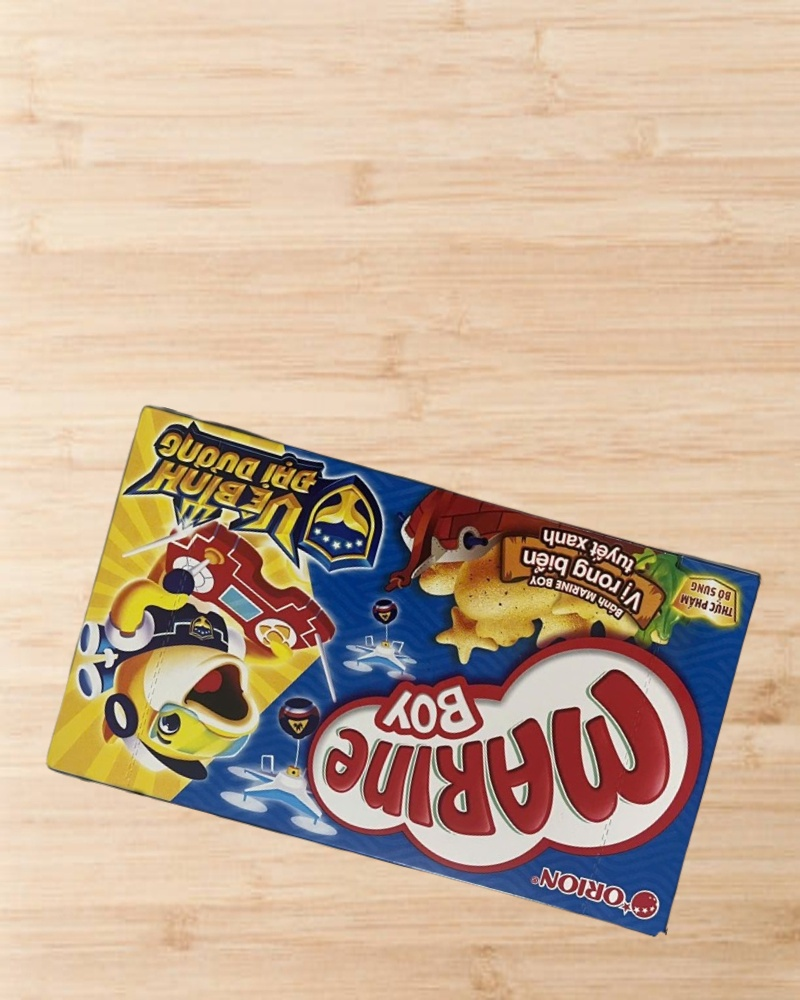Marine: (41, 404, 764, 940)
